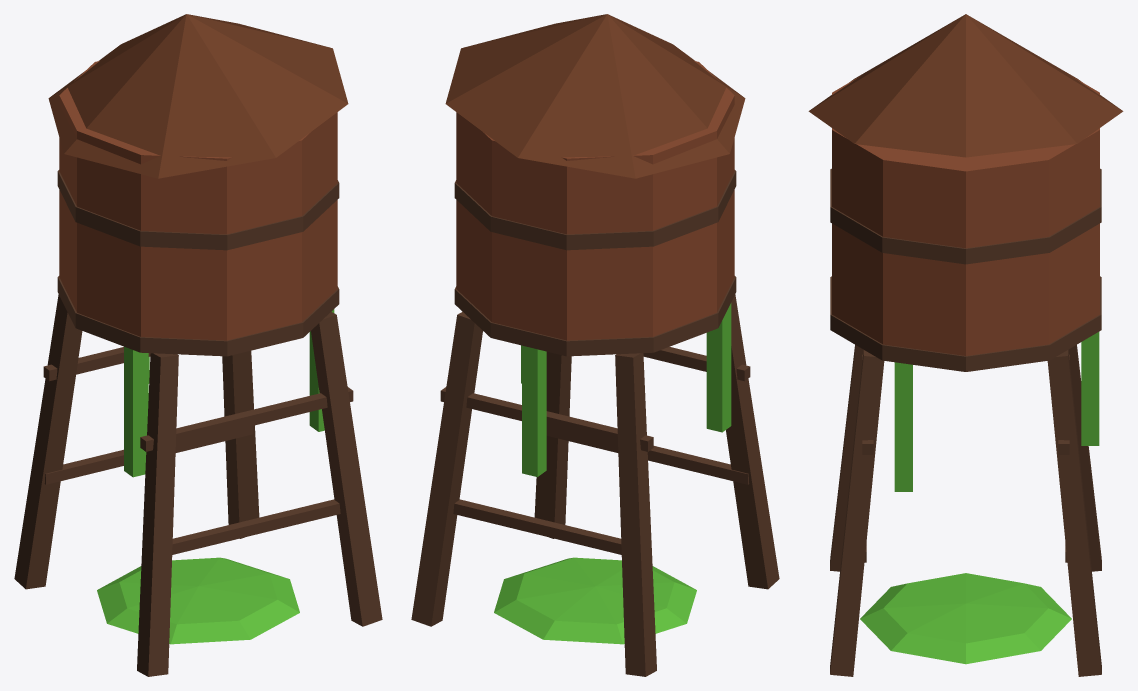
The model's file is env_r11_leaking_water_tower.glb.
The picture shows the model from 3 angles, left to right: view 1: azimuth 30°, elevation 25°; view 2: azimuth 150°, elevation 25°; view 3: azimuth 270°, elevation 25°; orthographic projection.
Parts seen in each view (by area): view 1: env_r11_leaking_water_tower; view 2: env_r11_leaking_water_tower; view 3: env_r11_leaking_water_tower.
Part boxes in pixels (x1,y1,x2,y2): env_r11_leaking_water_tower: (14,14,382,676); env_r11_leaking_water_tower: (411,14,779,676); env_r11_leaking_water_tower: (808,14,1123,676).
Bounding box in the file's own units: 3.8 × 8 × 3.8.
1 material, 1 textured.
